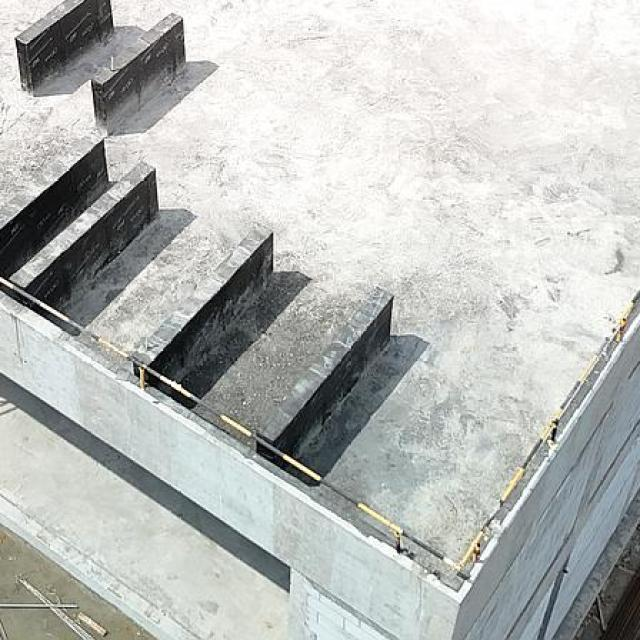edge_guardrail: (0, 271, 640, 575)
